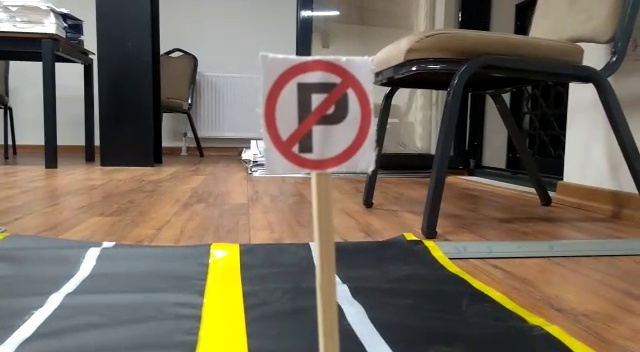park_yapilmaz: (260, 53, 371, 168)
